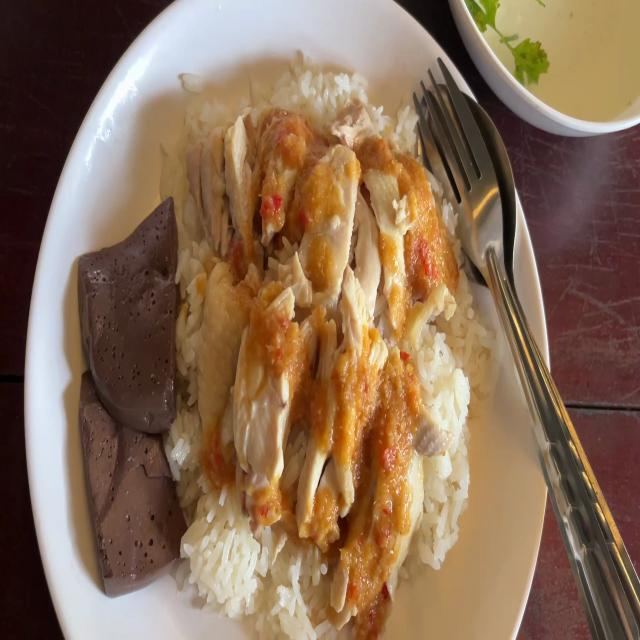boiled_chicken: (193, 111, 436, 548)
boiled_chicken_blood_jelly: (76, 356, 174, 592), (79, 192, 176, 424)
chicken_rice: (82, 64, 482, 640)
